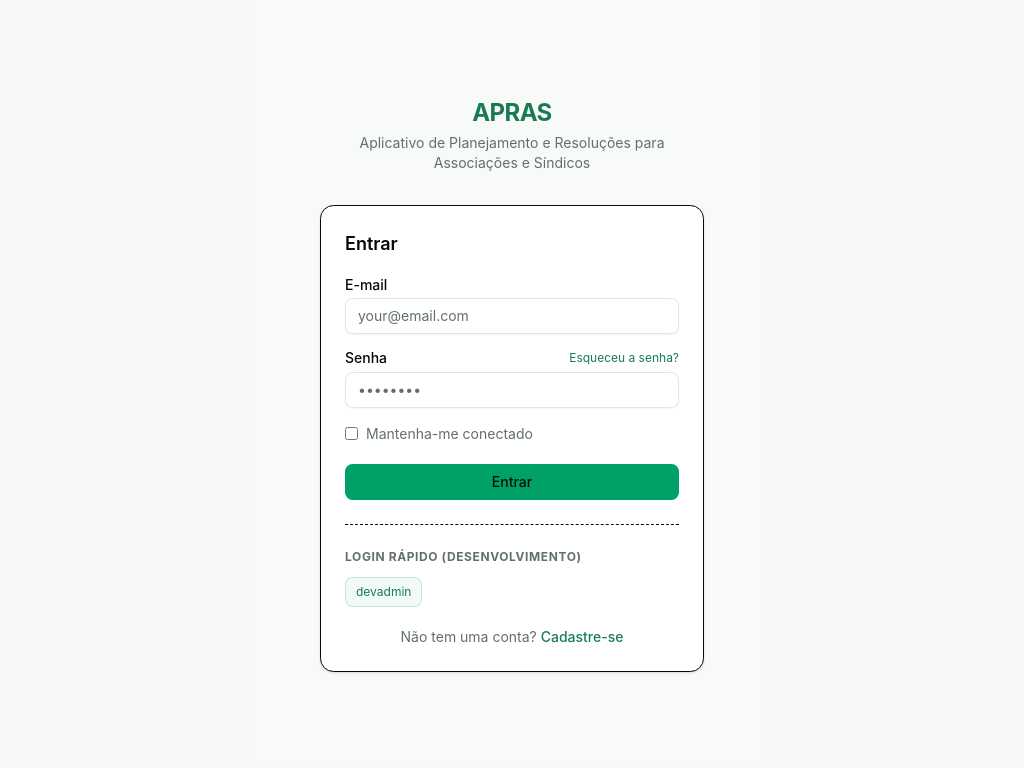
LoginPage › handles dev login failure
Click the button "devadmin": click(384, 592) [345,576,422,606]
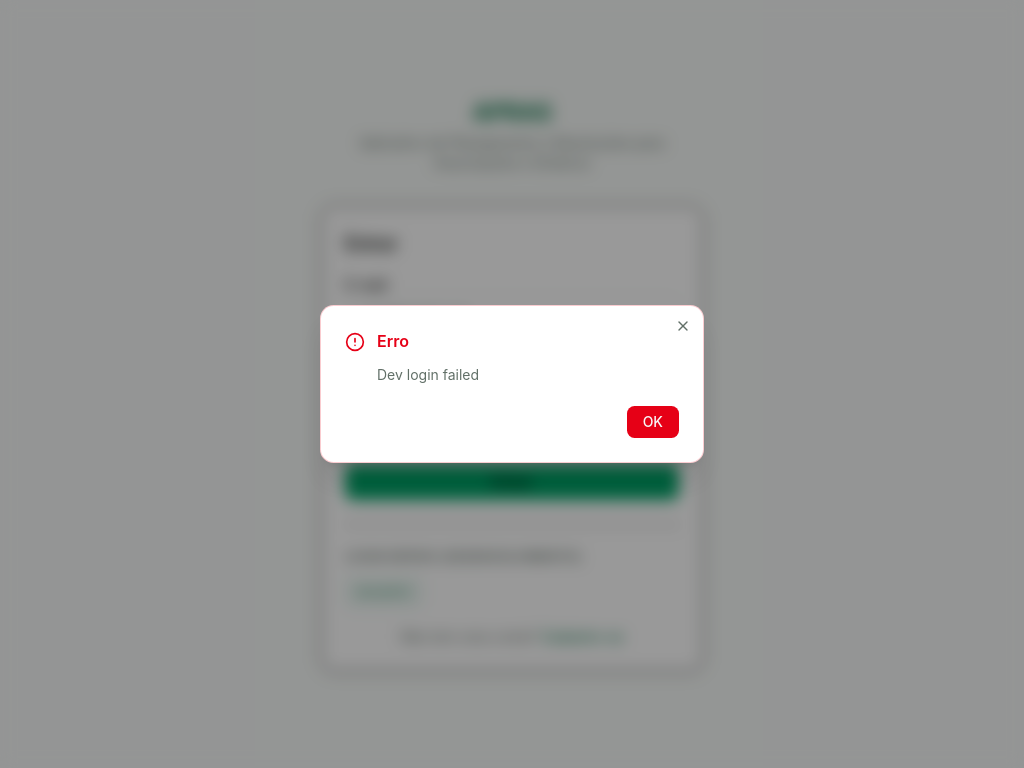
Expected: the text "Dev login failed" is shown, [377,366,479,383]
